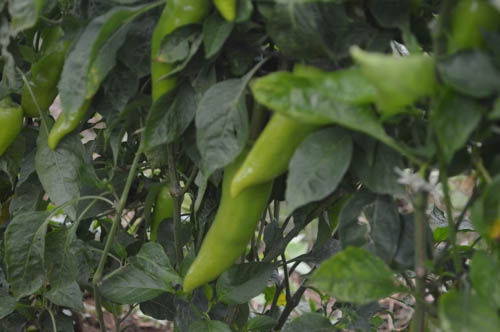ChiliPepper: (183, 168, 279, 297), (227, 109, 310, 204), (144, 2, 202, 104), (22, 32, 68, 119), (46, 102, 92, 157), (1, 106, 24, 155)
